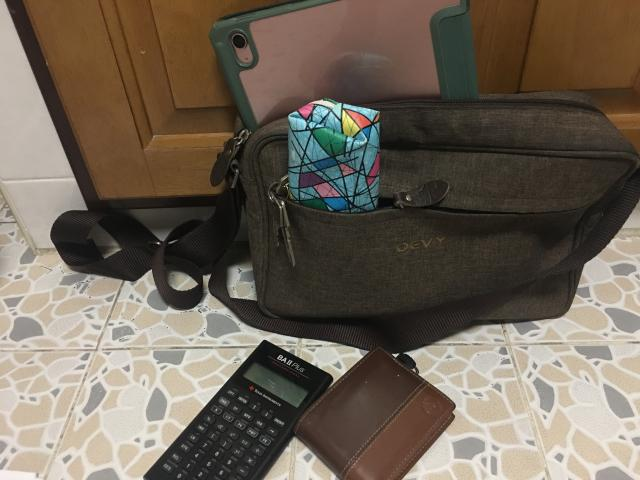Keys: (267, 176, 295, 267)
Wallet: (294, 348, 455, 479)
